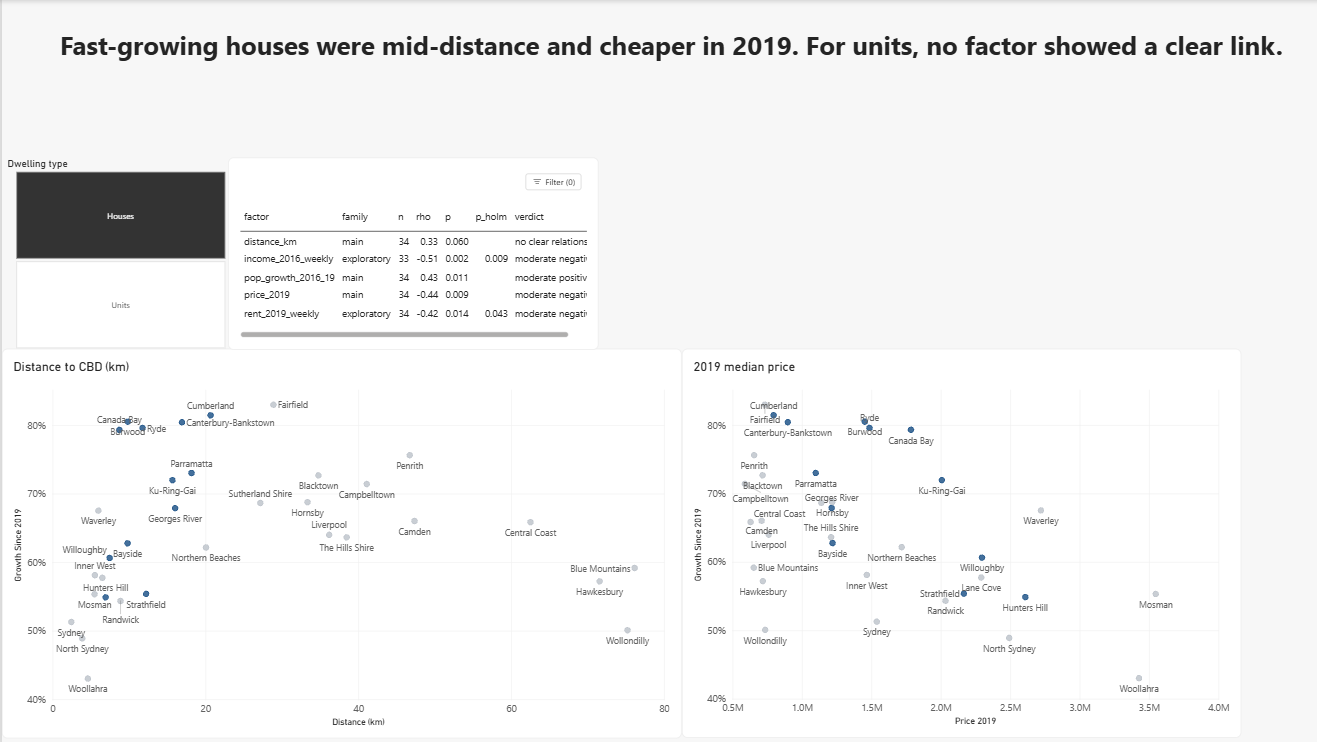

What the dashboard file says about the page in this screenshot:
{"tool":"powerbi","page":{"name":"Why","canvas":[1920,1080],"ordinal":3},"visuals":[{"type":"scatterChart","title":"Distance to CBD (km)","fields":{"Category":["dim_lga.lga"],"X":["_Measures.Distance (km)"],"Y":["_Measures.Growth Since 2019"]},"box":[0,505.5,983.6,563.6],"z":0},{"type":"scatterChart","title":"2019 median price","fields":{"Category":["dim_lga.lga"],"X":["_Measures.Price 2019"],"Y":["_Measures.Growth Since 2019"]},"box":[983.6,505.5,809.9,563],"z":1000},{"type":"tableEx","fields":{"Values":["factor_tests.factor","factor_tests.family","factor_tests.n","factor_tests.rho","factor_tests.p","factor_tests.p_holm","factor_tests.verdict"]},"box":[327.3,227.3,536.4,278.2],"z":2000},{"type":"textbox","box":[18.3,40,1901.7,183.3],"z":3000},{"type":"slicer","fields":{"Values":["dim_dwelling.dwelling_label"]},"box":[0,227.3,341.8,278.2],"z":4000}]}

Visuals, with their boxes in screenshot pixels (x1, y1, x2, y2), scaled from the page's 1920x1080 canvas onto the 1317x742 screenshot:
"Distance to CBD (km)" scatterChart: l=0, t=347, r=675, b=735
"2019 median price" scatterChart: l=675, t=347, r=1230, b=734
tableEx - factor_tests.factor x factor_tests.family: l=225, t=156, r=592, b=347
textbox: l=13, t=27, r=1316, b=153
slicer - dim_dwelling.dwelling_label: l=0, t=156, r=234, b=347
